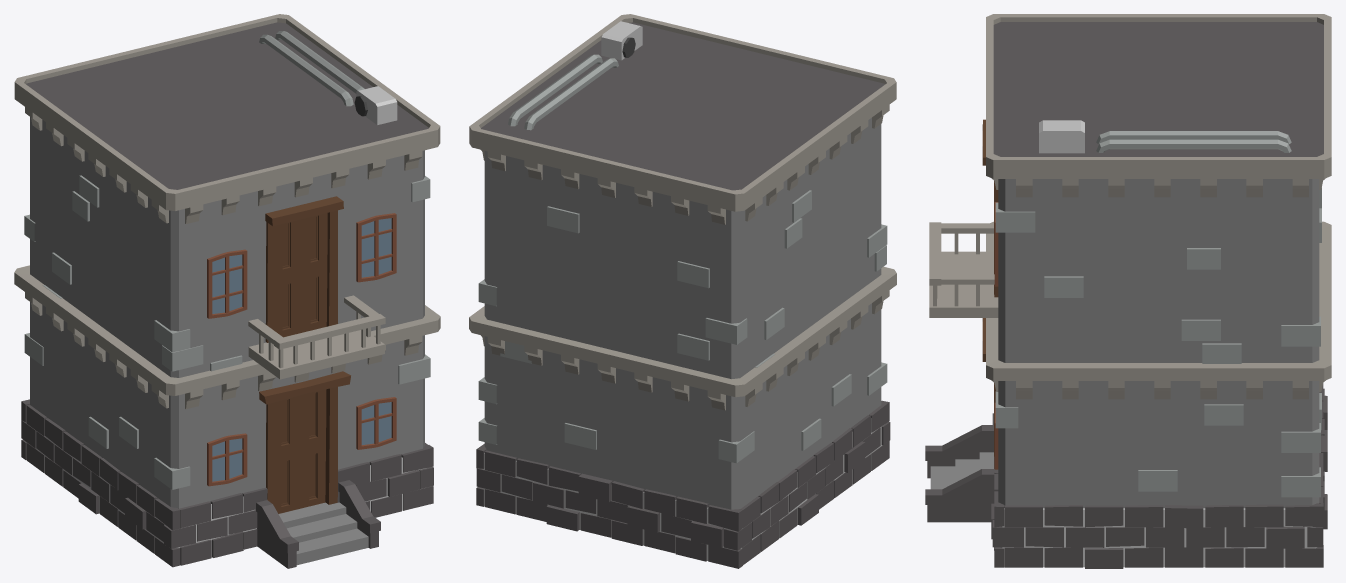
Rendered from 2StoryB.glb.
3 views of the same model, side by side, from view 1: azimuth 30°, elevation 25°; view 2: azimuth 150°, elevation 25°; view 3: azimuth 270°, elevation 25° (orthographic). The views are drawn at different scales.
Parts seen in each view (by area): view 1: 2Story_Balcony; view 2: 2Story_Balcony; view 3: 2Story_Balcony.
Boxes of the visible parts, bbox=[...] form: 2Story_Balcony: bbox=[14, 14, 440, 568]; 2Story_Balcony: bbox=[469, 14, 896, 568]; 2Story_Balcony: bbox=[925, 14, 1331, 568].
Bounding box in the file's own units: 2.16 × 2.94 × 2.53.
1 material, 1 textured.
